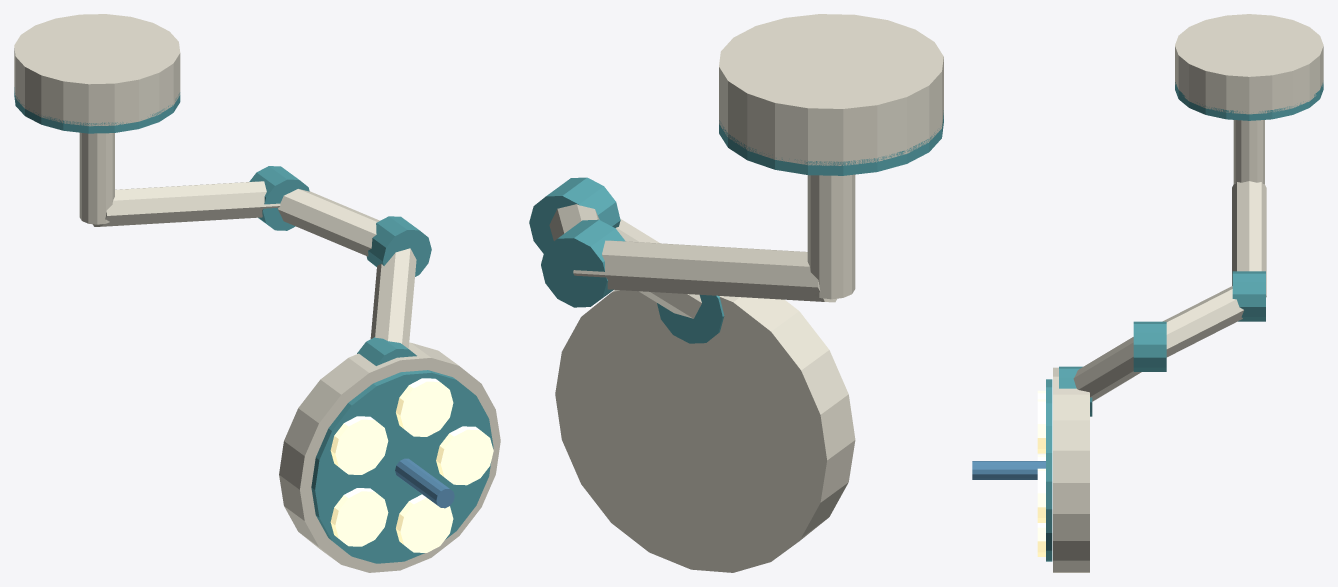
Rendered from surgical_light_standard.glb.
3 views of the same model, side by side, from view 1: azimuth 30°, elevation 25°; view 2: azimuth 150°, elevation 25°; view 3: azimuth 270°, elevation 25° (orthographic). The views are drawn at different scales.
Visible parts, largest first — view 1: MOVING_PIVOT_lamp_head_tilt.001, STATIC_surgical_light_standard, MOVING_PIVOT_ceiling_swing_1; view 2: MOVING_PIVOT_lamp_head_tilt.001, STATIC_surgical_light_standard, MOVING_PIVOT_ceiling_swing_1; view 3: STATIC_surgical_light_standard, MOVING_PIVOT_ceiling_swing_1, MOVING_PIVOT_lamp_head_tilt.001.
Part boxes in pixels (box(x1,y1,x2,y2)): MOVING_PIVOT_lamp_head_tilt.001: box(279, 342, 500, 572); STATIC_surgical_light_standard: box(14, 14, 180, 224); MOVING_PIVOT_ceiling_swing_1: box(93, 166, 431, 365); MOVING_PIVOT_lamp_head_tilt.001: box(555, 290, 855, 572); STATIC_surgical_light_standard: box(719, 14, 943, 299); MOVING_PIVOT_ceiling_swing_1: box(529, 177, 836, 343); STATIC_surgical_light_standard: box(1175, 14, 1323, 184); MOVING_PIVOT_ceiling_swing_1: box(1059, 181, 1266, 416); MOVING_PIVOT_lamp_head_tilt.001: box(972, 367, 1089, 572).
Size of the model in its own units: 0.91 by 1.16 by 0.85.
